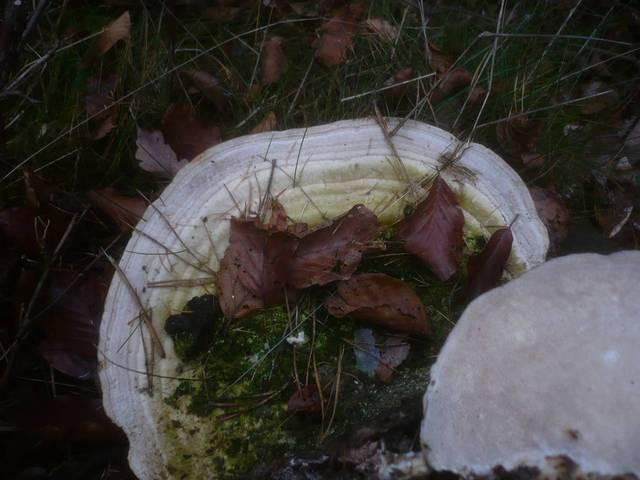poisonous_mushroom: (94, 136, 640, 479)
